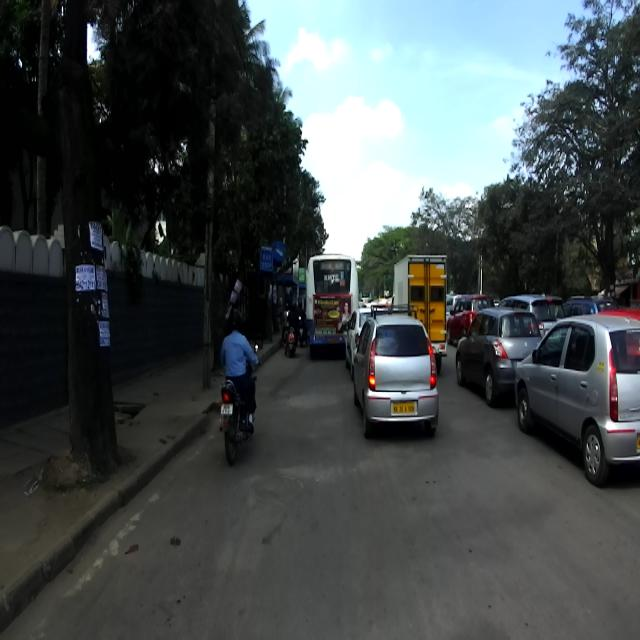car ahead at: (516, 310, 640, 482), (356, 308, 438, 446)
motorcycle ahead at: (215, 376, 269, 466)
tree ahead at: (55, 109, 123, 512)
